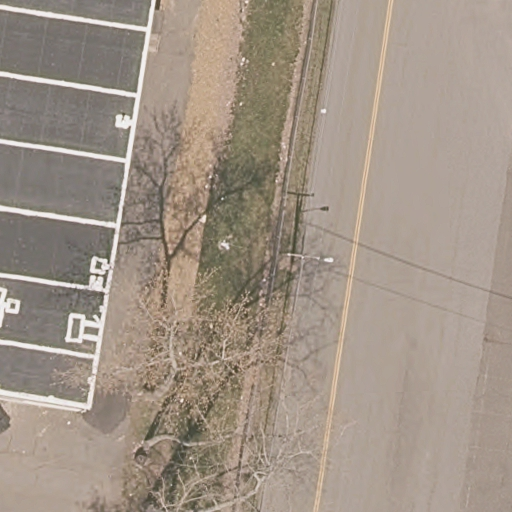DT: (282, 248, 322, 263)
